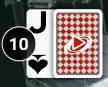j: (27, 10, 51, 35)
